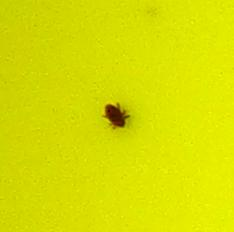Coleoptera: (100, 100, 134, 132)
